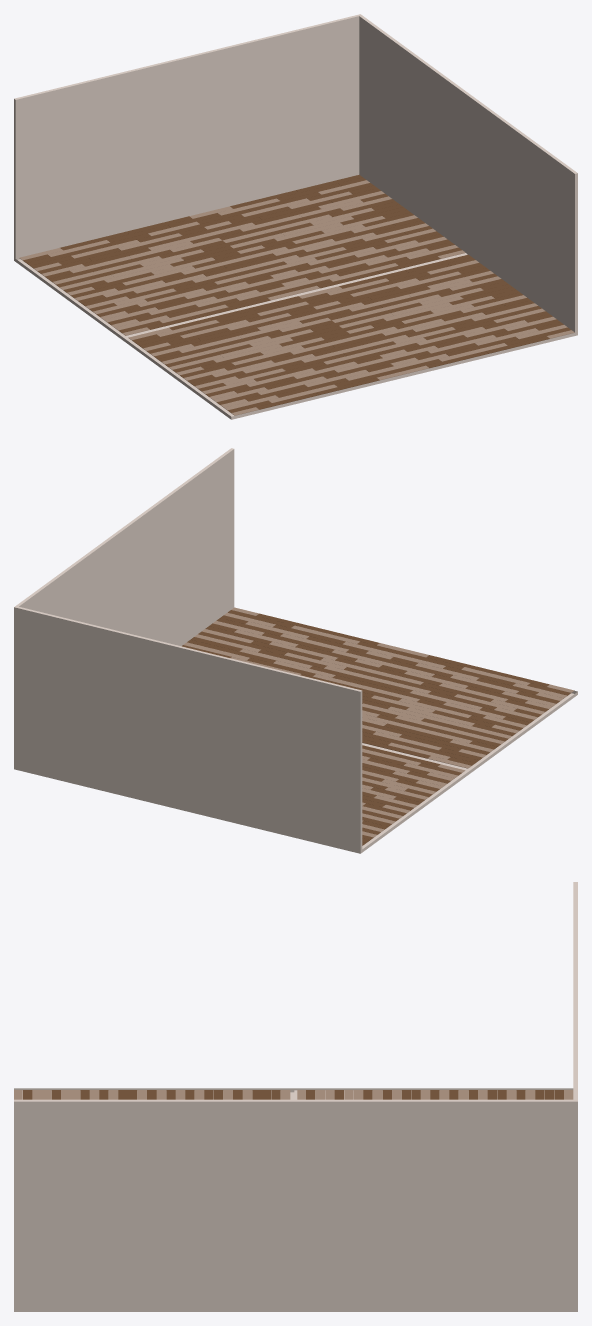
Rendered from apartment_02.glb.
3 views of the same model, one above another, from view 1: azimuth 30°, elevation 25°; view 2: azimuth 150°, elevation 25°; view 3: azimuth 270°, elevation 25° (orthographic). The views are drawn at different scales.
Visible parts, largest first — view 1: apartment_02; view 2: apartment_02; view 3: apartment_02.
Boxes of the visible parts, x1=… form: apartment_02: x1=14, y1=14, x2=577, y2=419; apartment_02: x1=14, y1=448, x2=577, y2=853; apartment_02: x1=14, y1=882, x2=577, y2=1311.
Size of the model in its own units: 9.13 by 4.08 by 9.92.
Materials: 1 (1 with a texture image).
